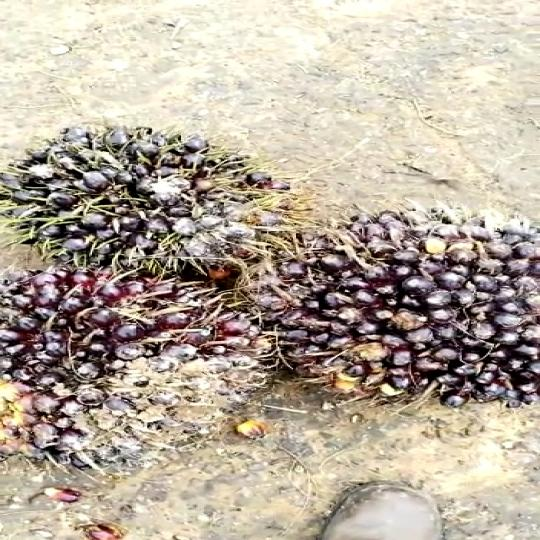mentah: (276, 204, 540, 419), (0, 265, 282, 464), (7, 120, 287, 298)
